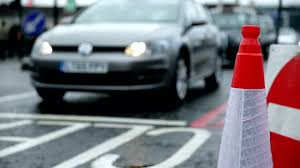car: (30, 1, 225, 104)
cone: (214, 25, 275, 168)
